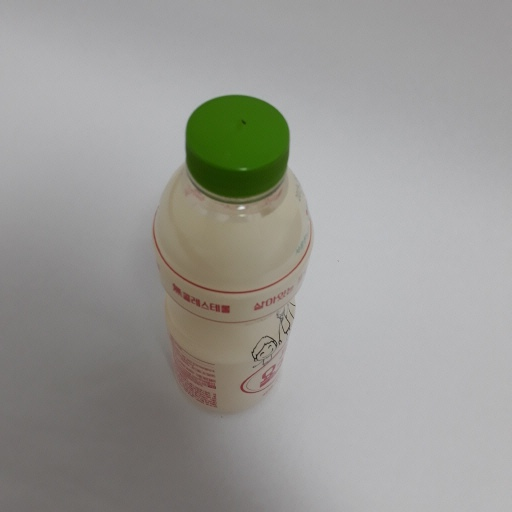Plastic_0: (148, 92, 316, 424)
